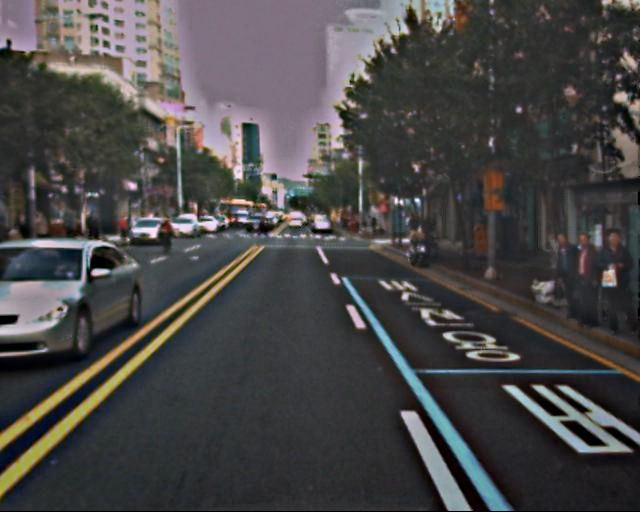person: (542, 231, 631, 339)
